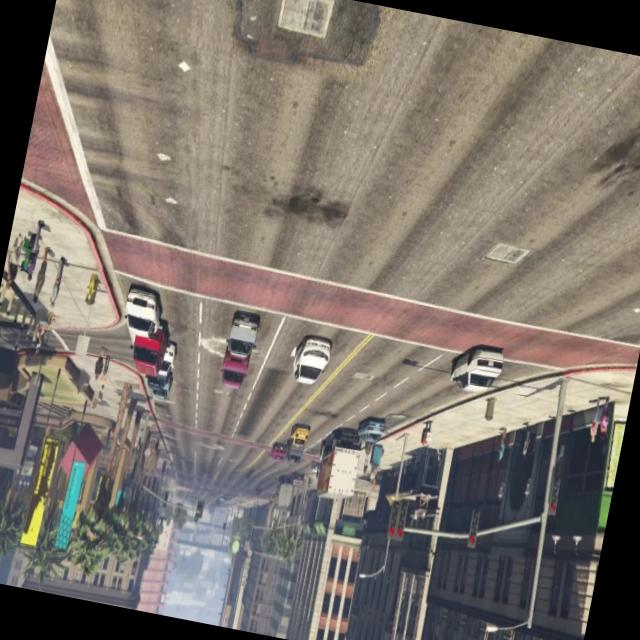Red-Signal: (382, 488, 414, 550), (460, 502, 487, 556), (544, 470, 566, 522)
